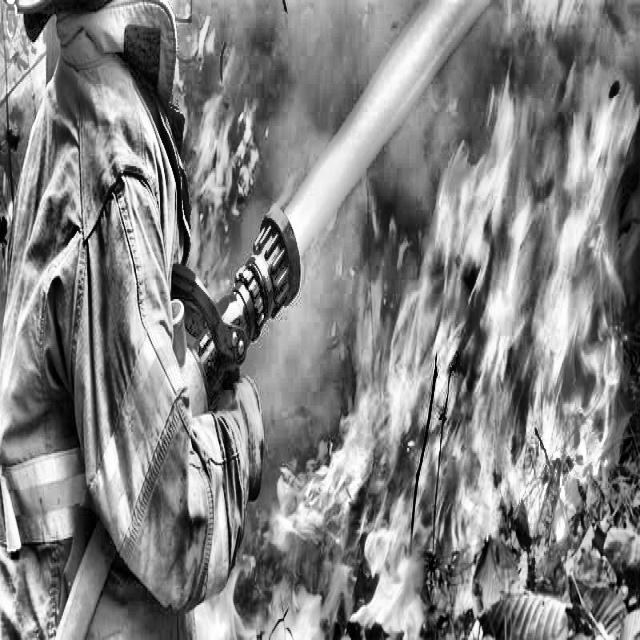fire: (232, 121, 640, 624)
